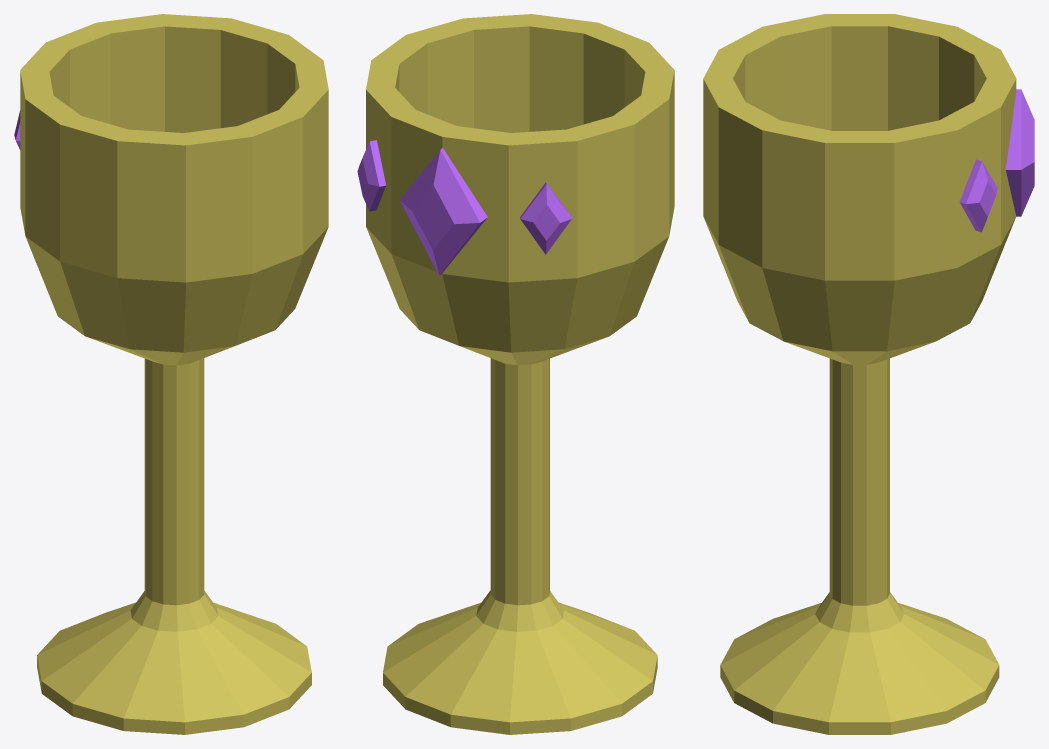
The model's file is chalice.fbx.
3 views of the same model, side by side, from view 1: azimuth 30°, elevation 25°; view 2: azimuth 150°, elevation 25°; view 3: azimuth 270°, elevation 25° (orthographic).
Parts seen in each view (by area): view 1: Chalice; view 2: Chalice, Gem, Gem.001, Gem.002; view 3: Chalice, Gem, Gem.002.
Boxes of the visible parts, x1,y1,x2,y2 form: Chalice: (20,14,328,734); Chalice: (366,14,674,734); Gem: (399,148,487,275); Gem.001: (520,182,571,254); Gem.002: (357,140,385,211); Chalice: (703,14,1016,734); Gem: (1006,89,1034,216); Gem.002: (959,159,997,232).
Bounding box in the file's own units: 195 × 422 × 212.
